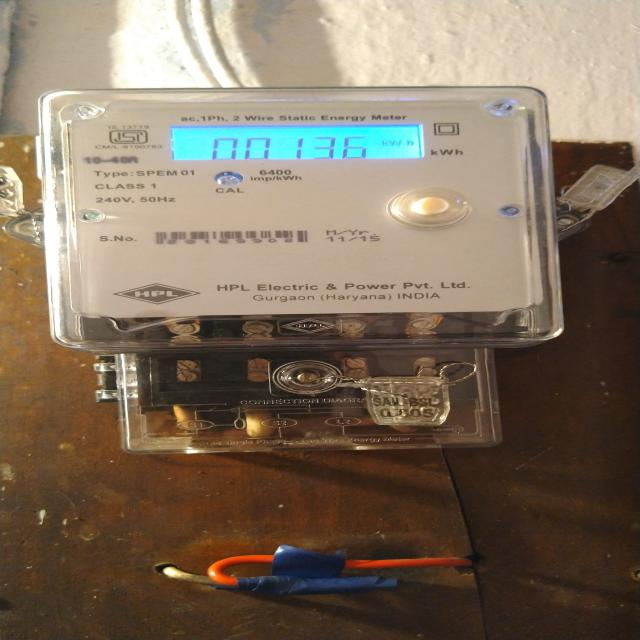display: (151, 121, 430, 162)
